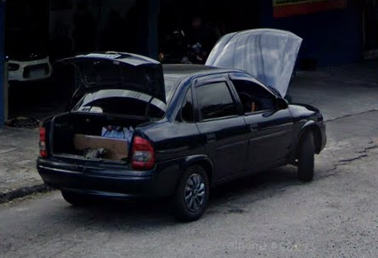car: (37, 29, 331, 219)
